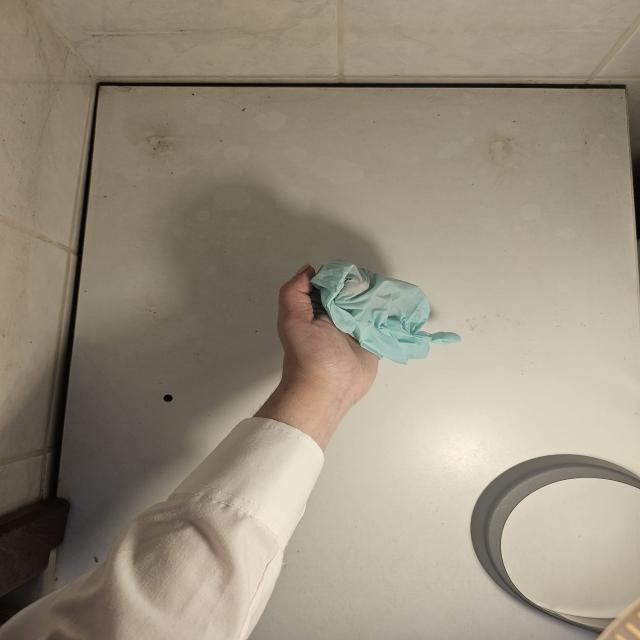glove_partial: (272, 260, 464, 395)
